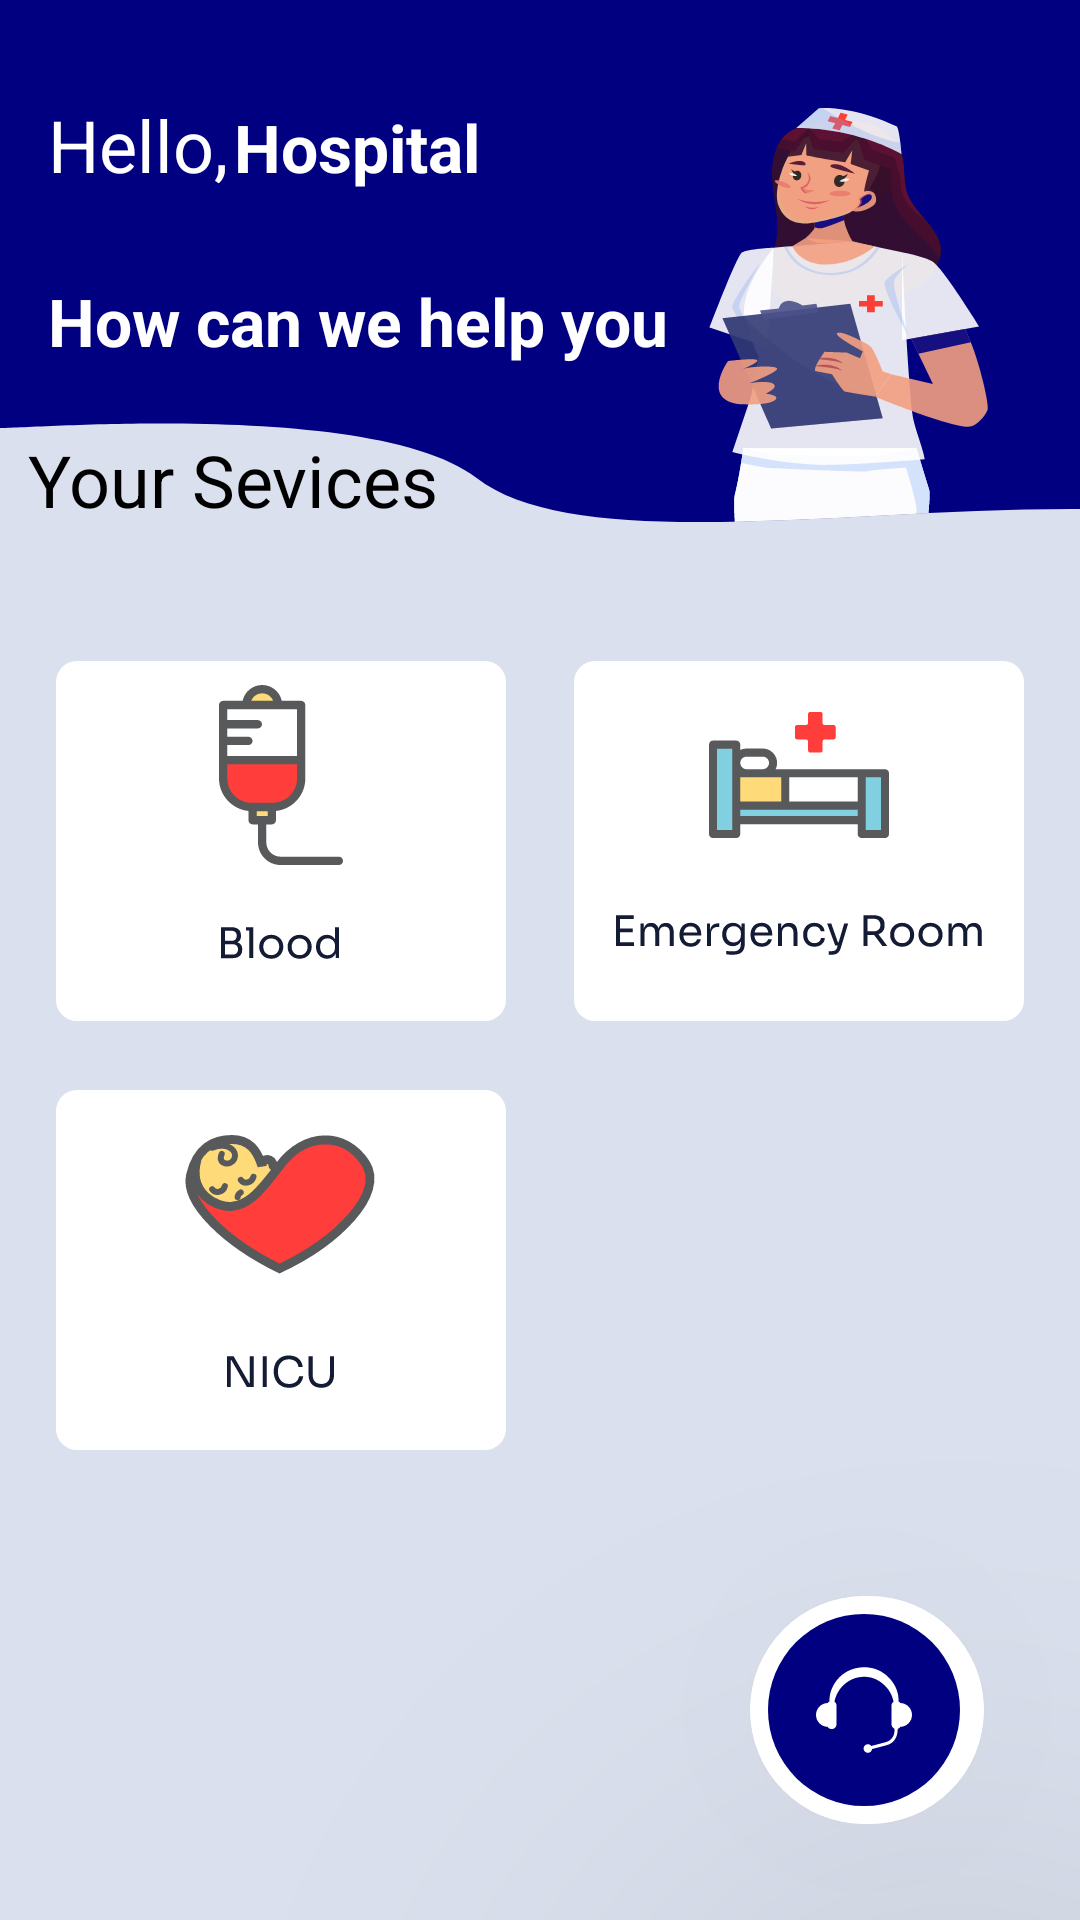

Where icons sit on this 1080×1920 app screen, as bbox=(x1, y1, x2, y2):
Support: bbox=(750, 1596, 978, 1824)
